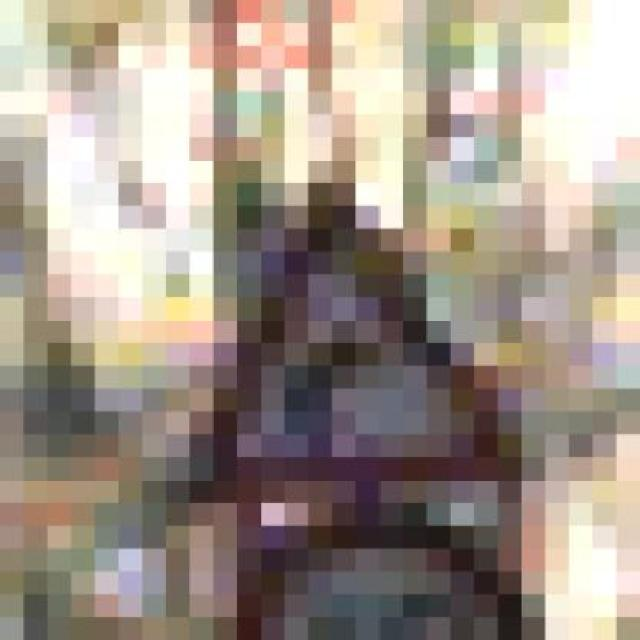Dangerous Rright Curve Ahead: (166, 137, 545, 503)
